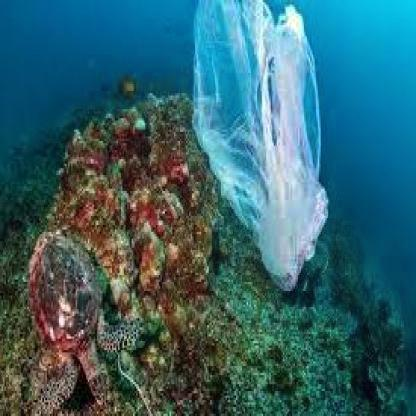pbag: (180, 2, 335, 296)
